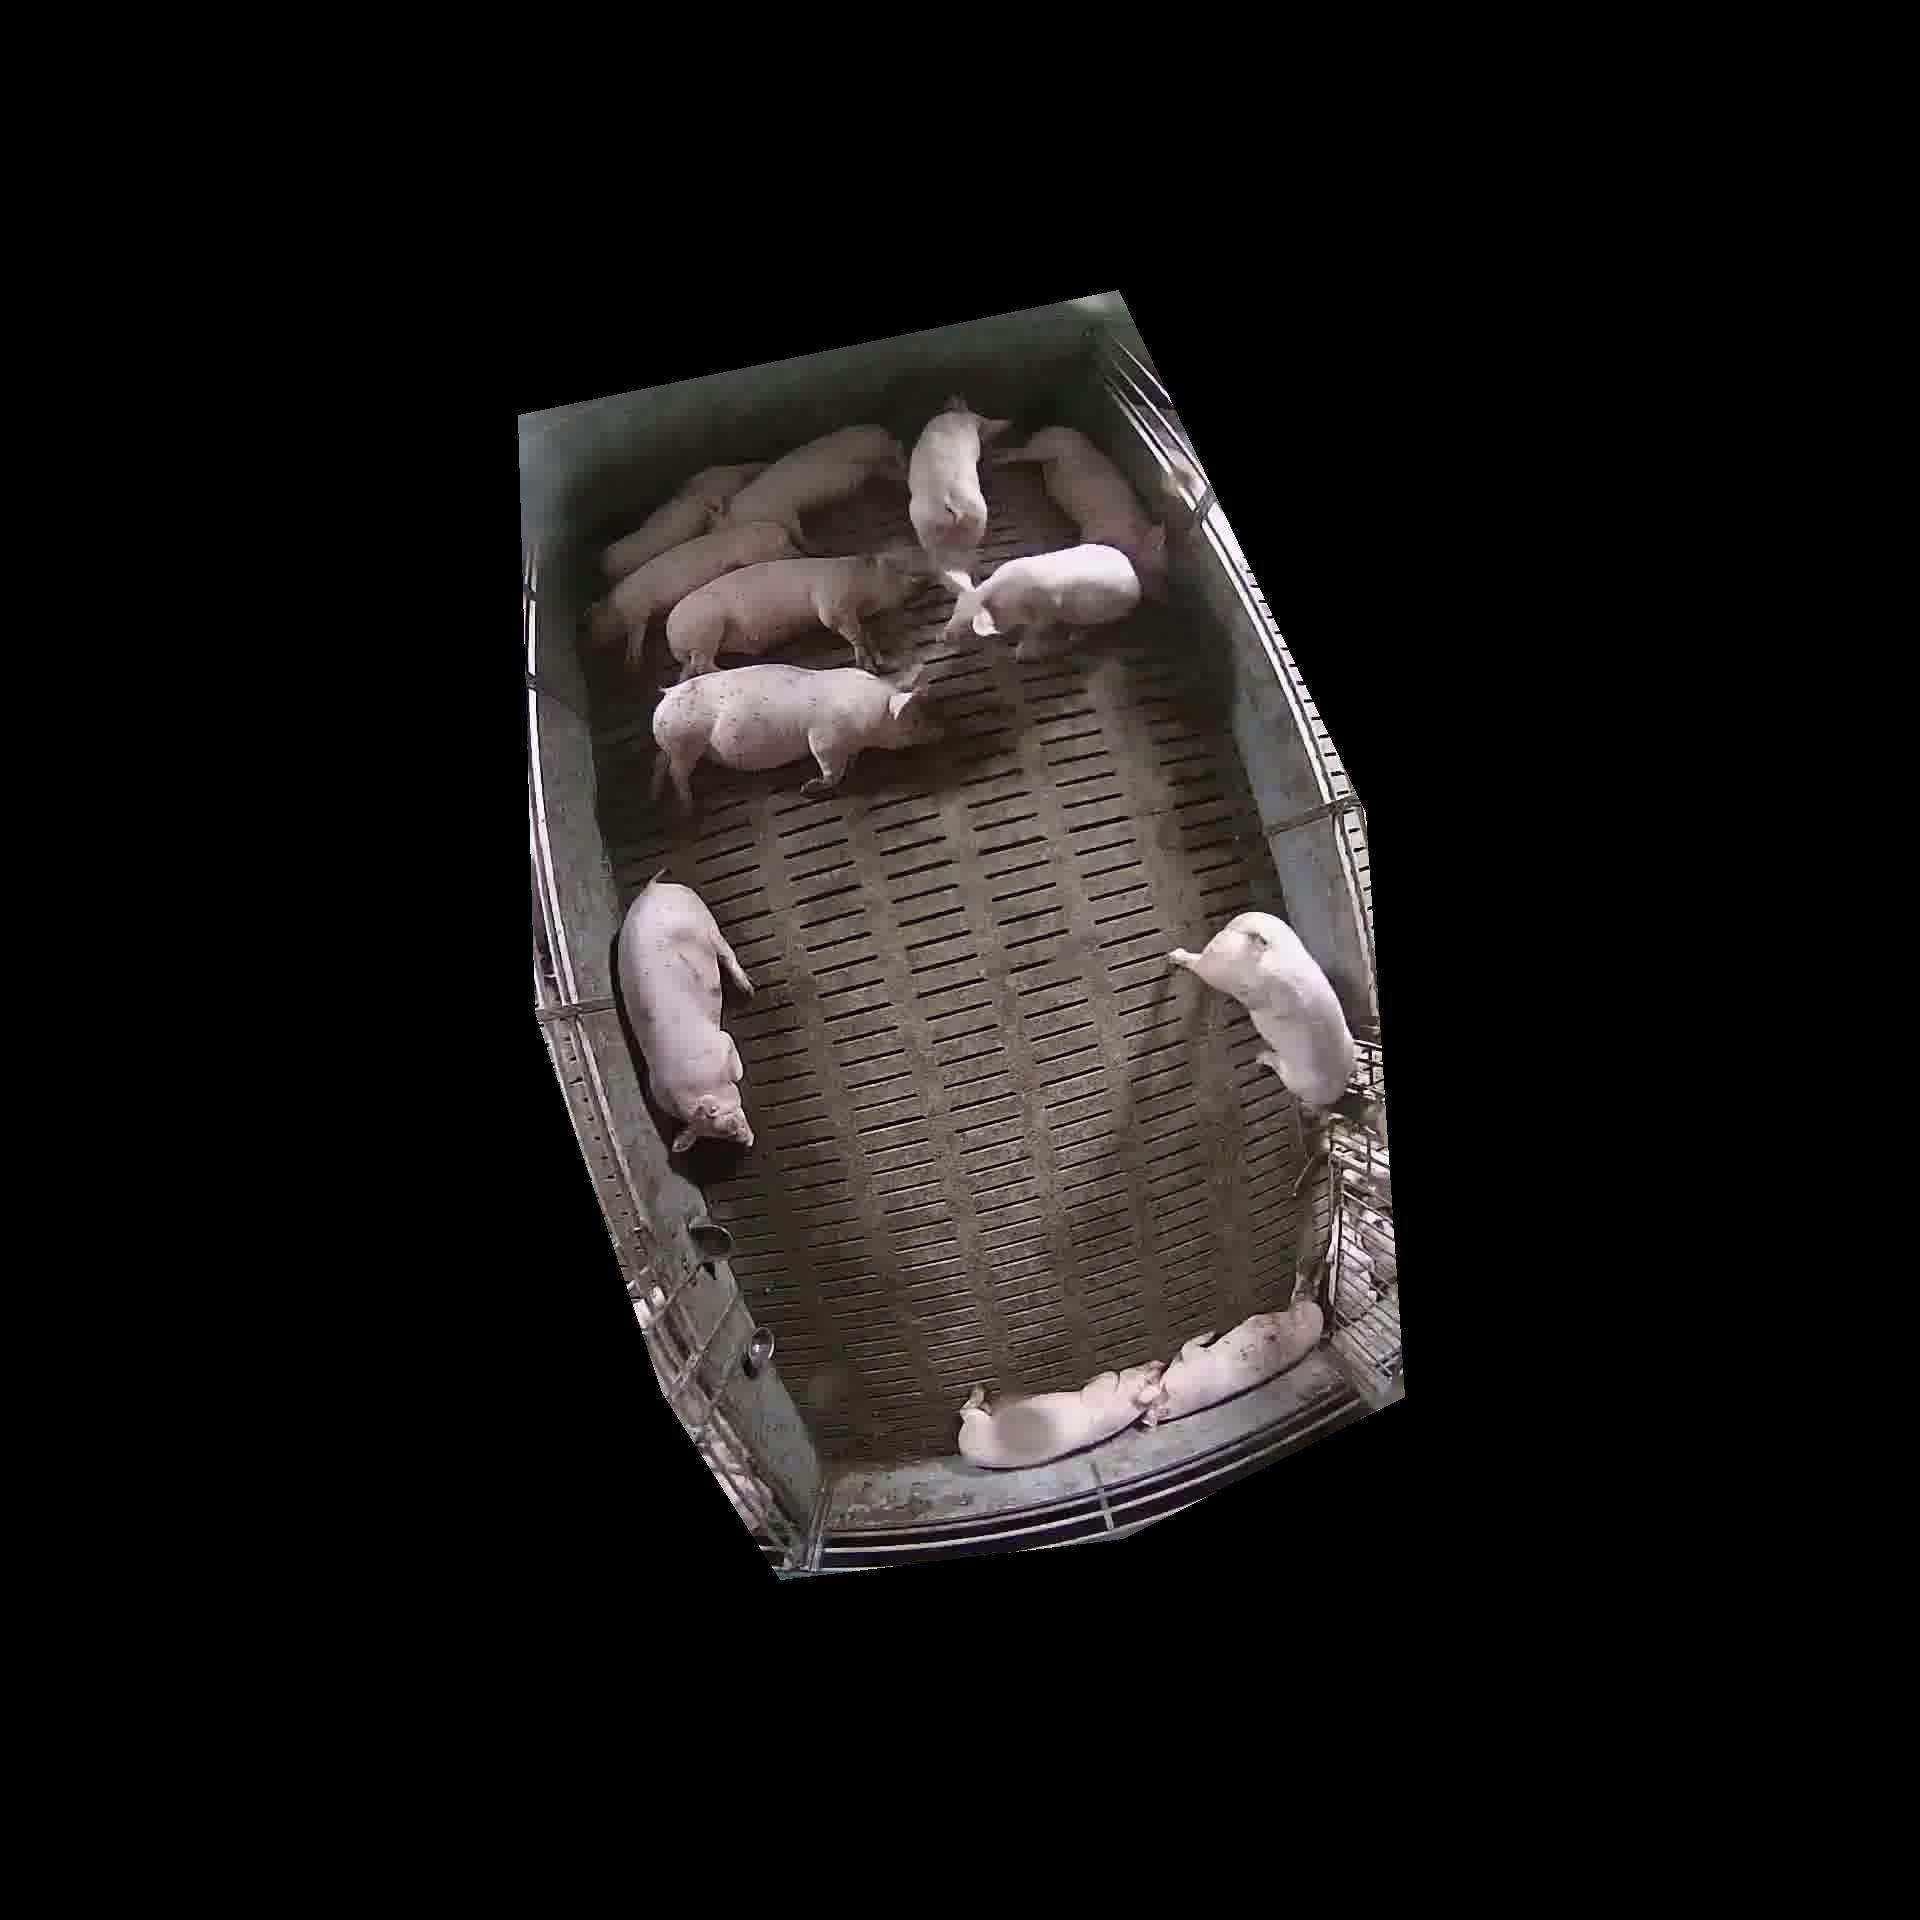pig: (652, 665, 941, 809), (617, 877, 753, 1153), (1169, 911, 1356, 1108), (666, 556, 925, 679), (589, 520, 798, 666), (1013, 425, 1167, 596), (941, 543, 1139, 658), (958, 1361, 1162, 1468), (1145, 1299, 1322, 1422), (723, 424, 904, 543), (600, 462, 765, 582), (907, 396, 1009, 571)
